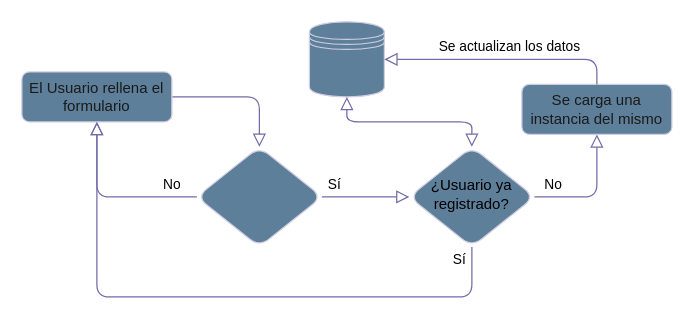
The diagram is 694 pixels wide and 331 high, and some of its shapes have lost their labels. The centre of each missing label's shape, as x and y in pixels:
Base de datos: (x=346, y=59)
¿Elementos válidos?: (x=259, y=196)
